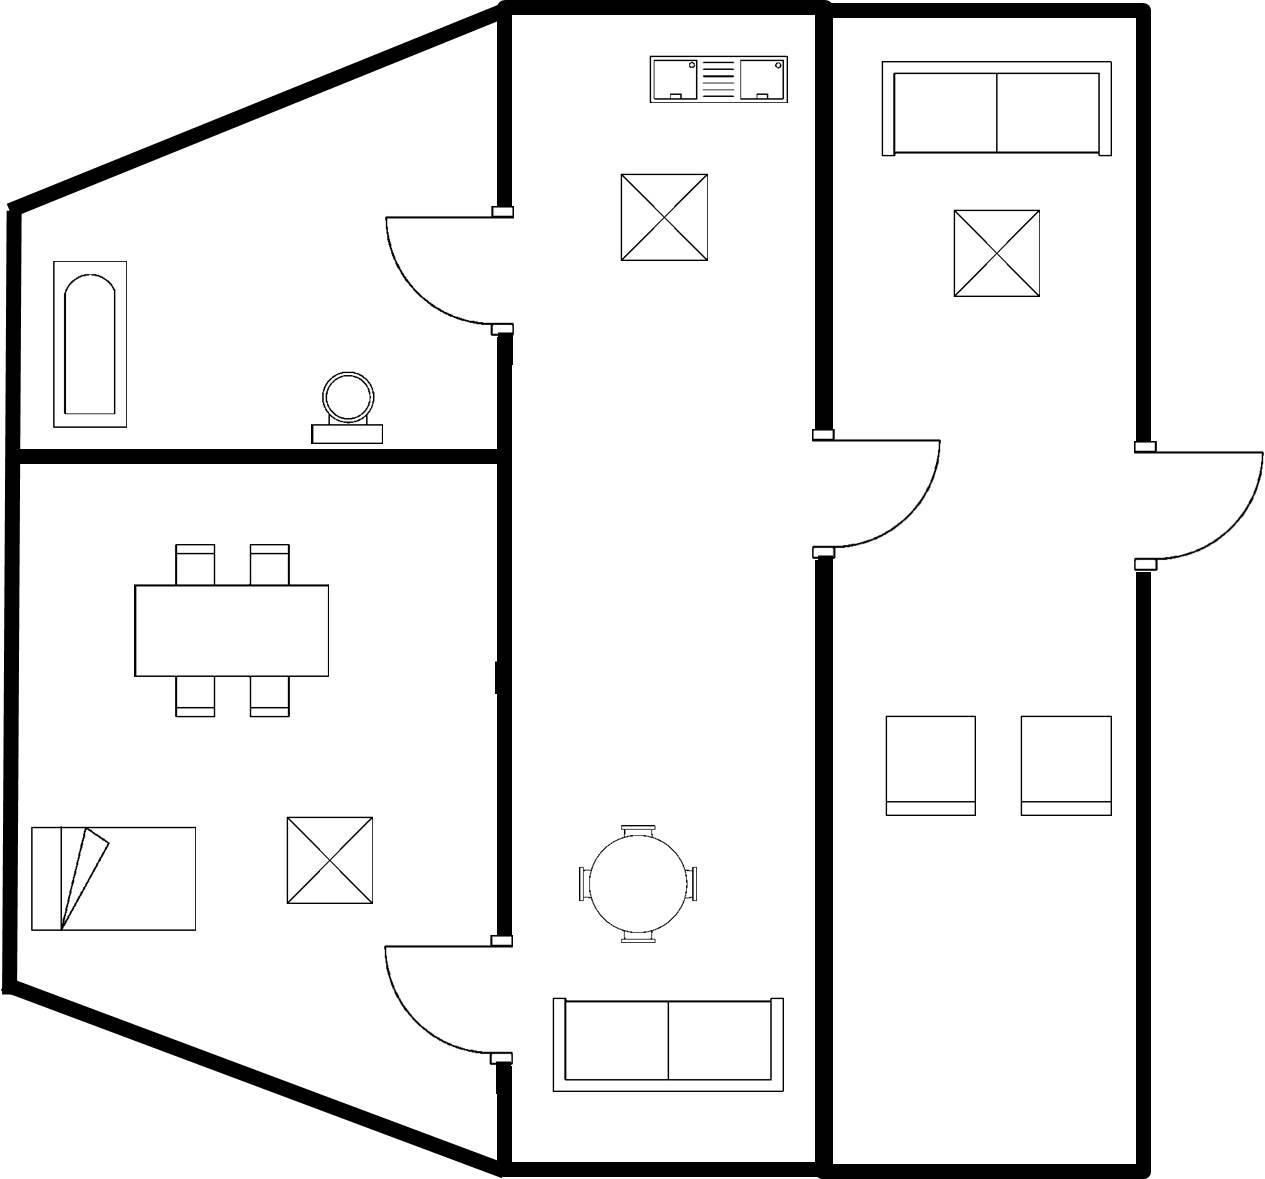sink: (642, 47, 793, 111)
